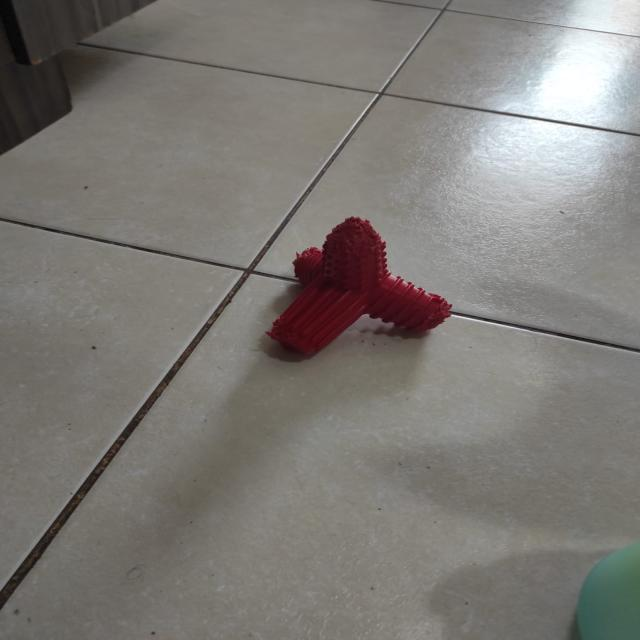brinquedo caro: (234, 199, 468, 392)
